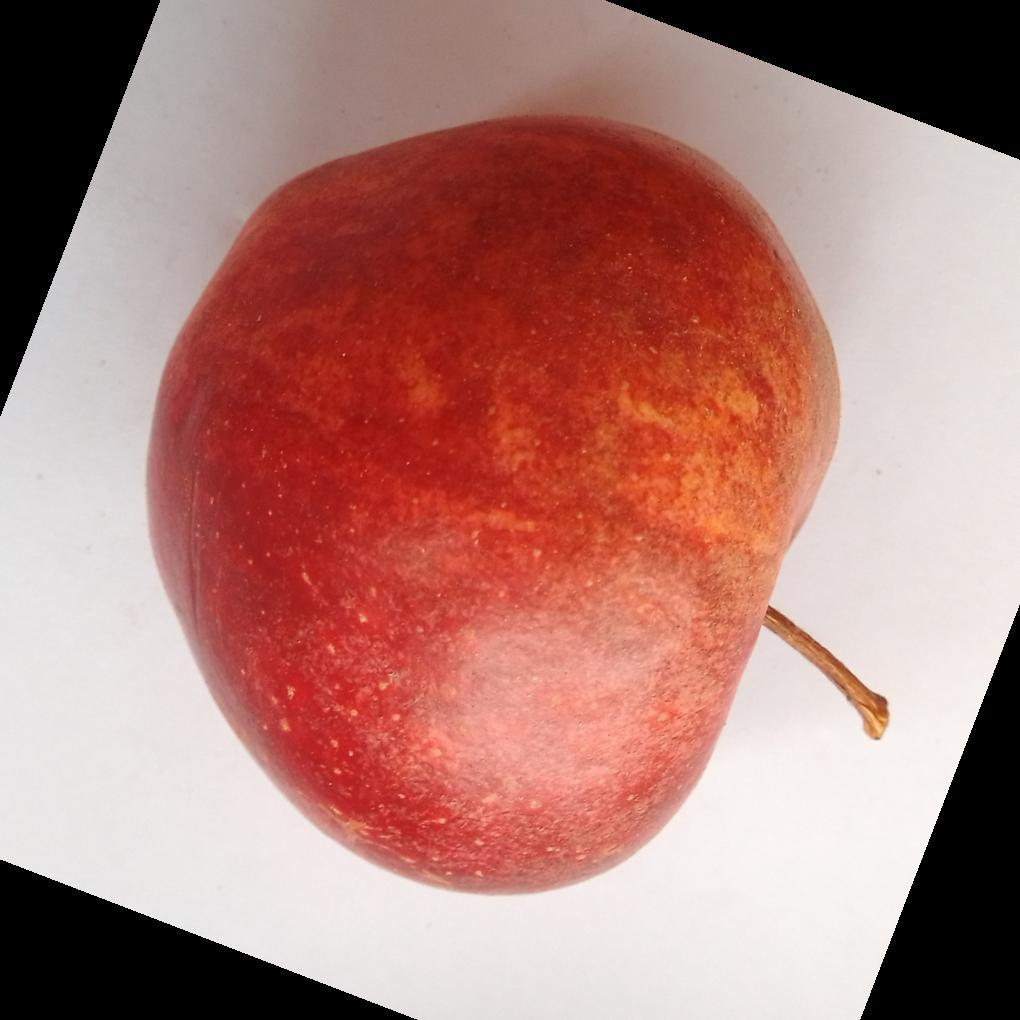FreshGuava: (143, 116, 843, 900)
